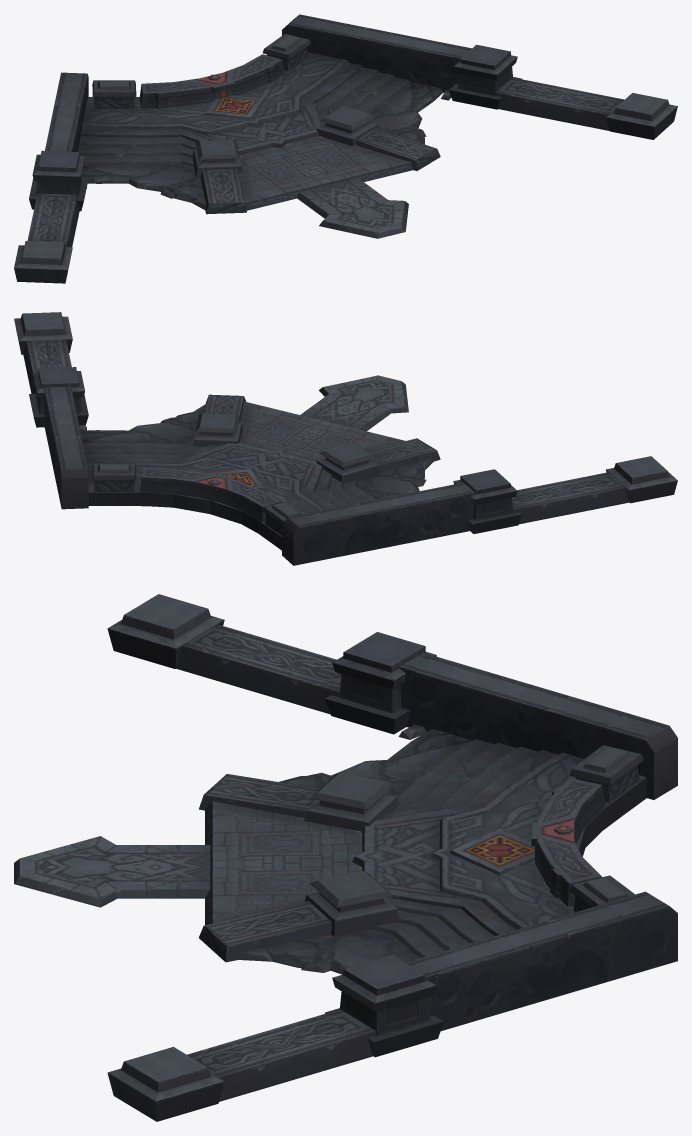
File: fb_csd_zj_17.FBX
3 views of the same model, one above another, from view 1: azimuth 30°, elevation 25°; view 2: azimuth 150°, elevation 25°; view 3: azimuth 270°, elevation 25° (orthographic). The views are drawn at different scales.
Visible parts, largest first — view 1: fb_csd_zj_17_b, fb_csd_zj_17_a; view 2: fb_csd_zj_17_b, fb_csd_zj_17_a; view 3: fb_csd_zj_17_b, fb_csd_zj_17_a.
Part boxes in pixels (<box>): fb_csd_zj_17_b: <box>14,14,677,283</box>; fb_csd_zj_17_a: <box>78,52,443,238</box>; fb_csd_zj_17_b: <box>14,312,677,565</box>; fb_csd_zj_17_a: <box>80,375,433,550</box>; fb_csd_zj_17_b: <box>107,594,677,1121</box>; fb_csd_zj_17_a: <box>14,729,646,974</box>.
Bounding box in the file's own units: 4761 × 279 × 2659.
